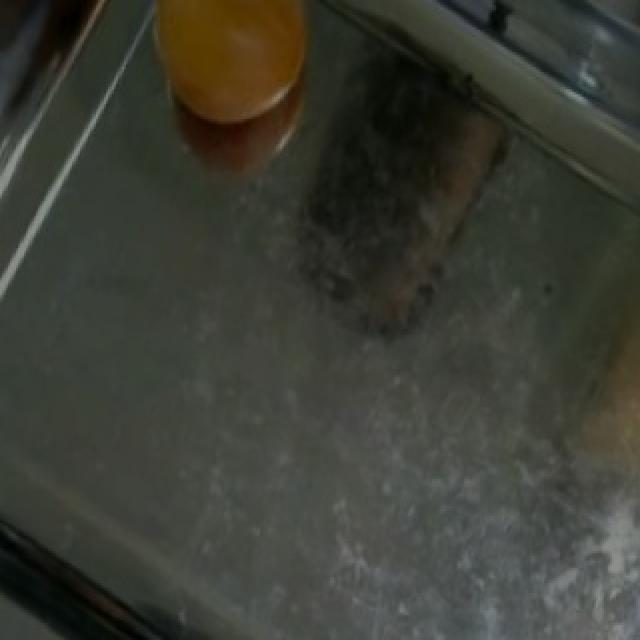Fruit: (126, 2, 334, 146)
